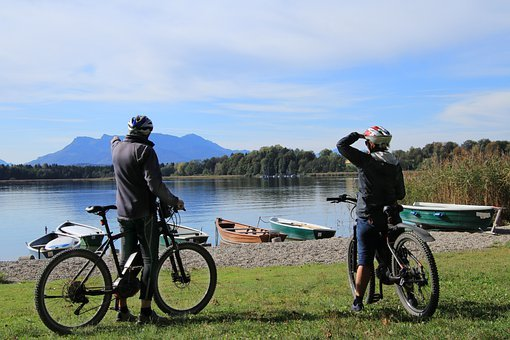commuter: (32, 111, 217, 335), (327, 124, 441, 321)
